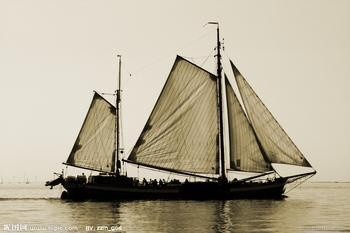fanchuan: (42, 20, 318, 202)
